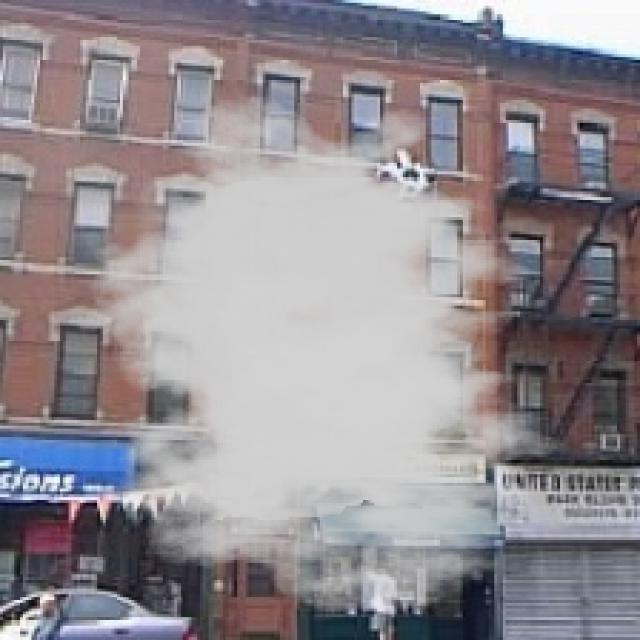smoke: (66, 95, 591, 614)
